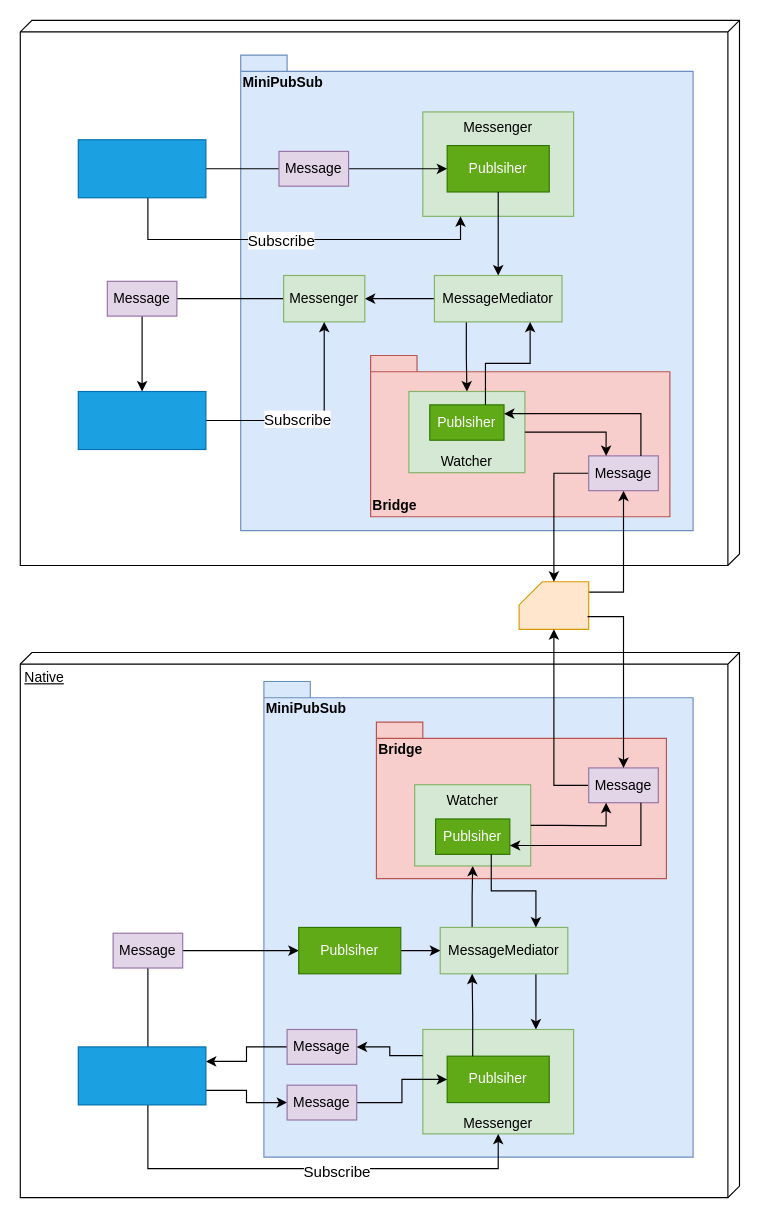
Image size: 760x1218. Some labels were removed from this diagram. Here are the shapes that lost their labels. From the top down, the box of each, then its label:
(77, 139, 206, 198): Game side object
(19, 19, 740, 566): Game Engine
(77, 390, 206, 449): Other object
(518, 581, 589, 629): json
(77, 1046, 206, 1105): Native side object
